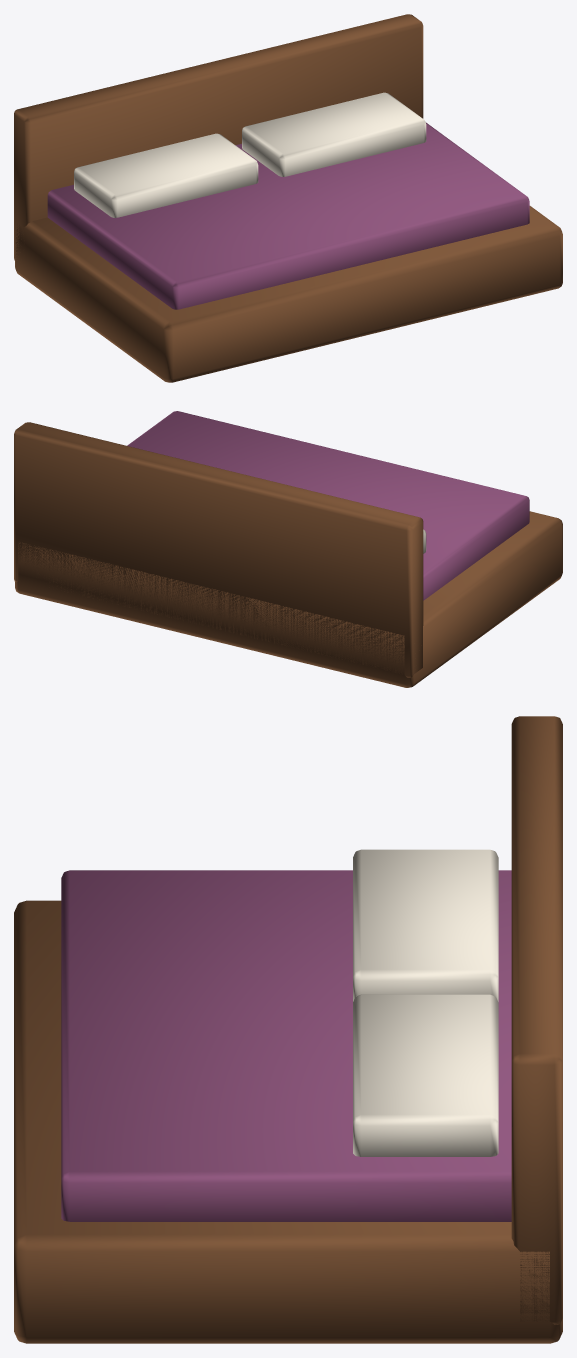
File: v_furn_bed.glb
3 renders of one model, top to bottom at view 1: azimuth 30°, elevation 25°; view 2: azimuth 150°, elevation 25°; view 3: azimuth 270°, elevation 25°, orthographic. The views are drawn at different scales.
Parts seen in each view (by area): view 1: FurnBed; view 2: FurnBed; view 3: FurnBed.
Part boxes in pixels (x1,y1,x2,y2): FurnBed: (14, 14, 562, 382); FurnBed: (14, 411, 562, 687); FurnBed: (14, 716, 562, 1343).
Size of the model in its own units: 1.9 by 0.75 by 1.28.
